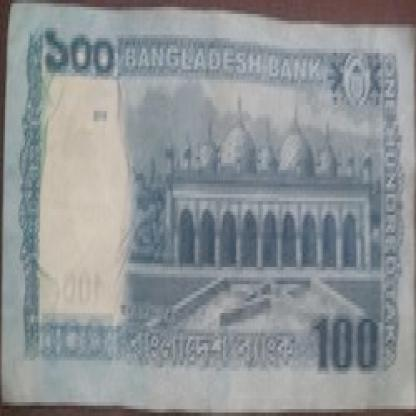one hundred taka: (310, 305, 381, 378), (42, 20, 116, 86)
